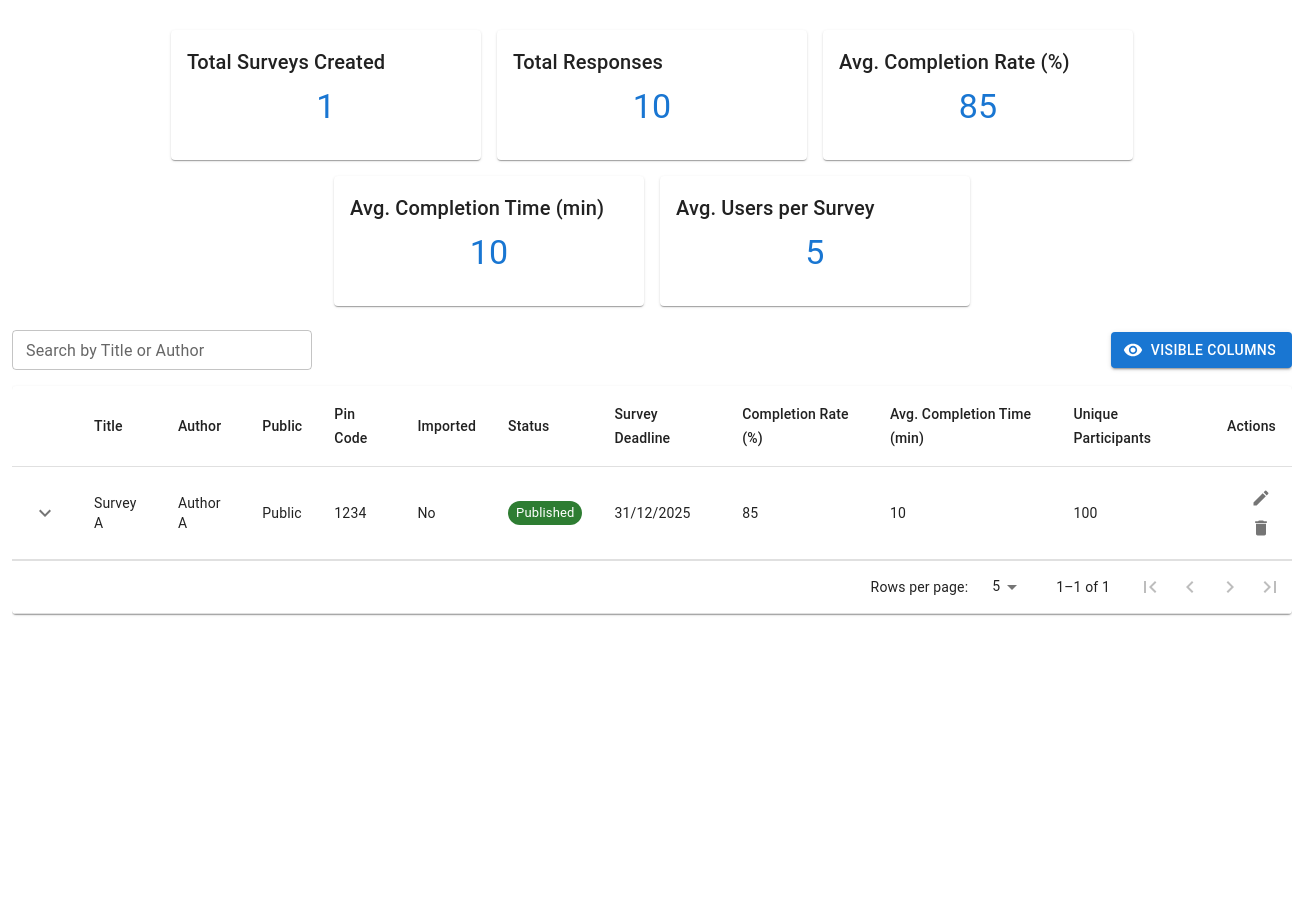
Test case: expands survey to show questions and metrics
Check: the text "Survey A" is shown, box top-left (78, 466), bottom-right (162, 560)
Click the 3rd button: (45, 513) top-left (28, 496), bottom-right (62, 530)
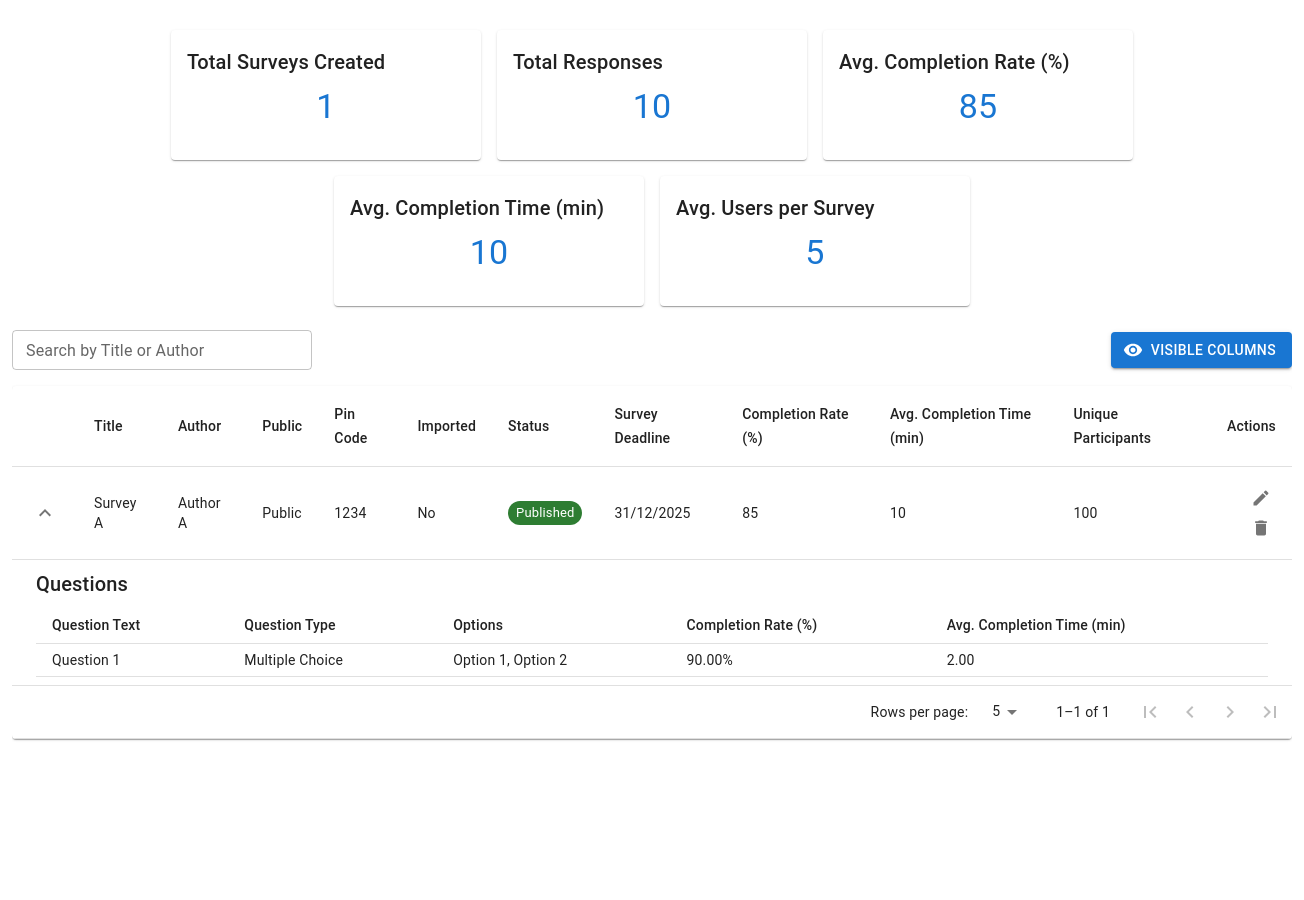
Check: the text "Questions" is shown, box top-left (36, 572), bottom-right (128, 596)
